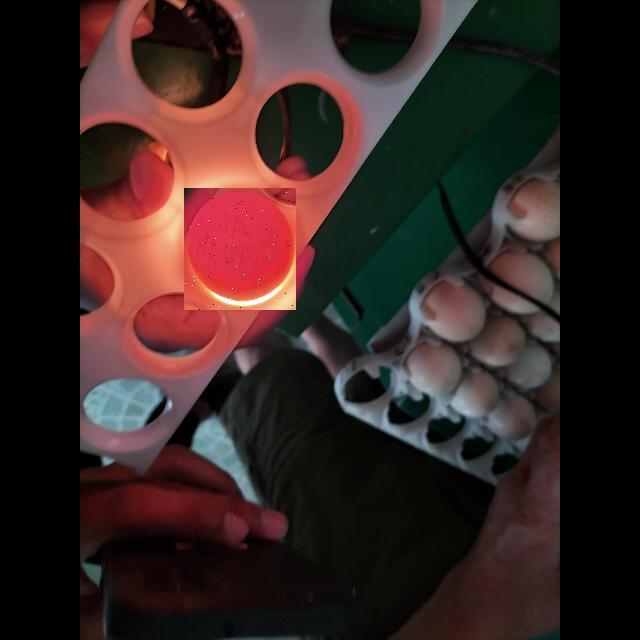Infertile: (184, 188, 296, 310)
